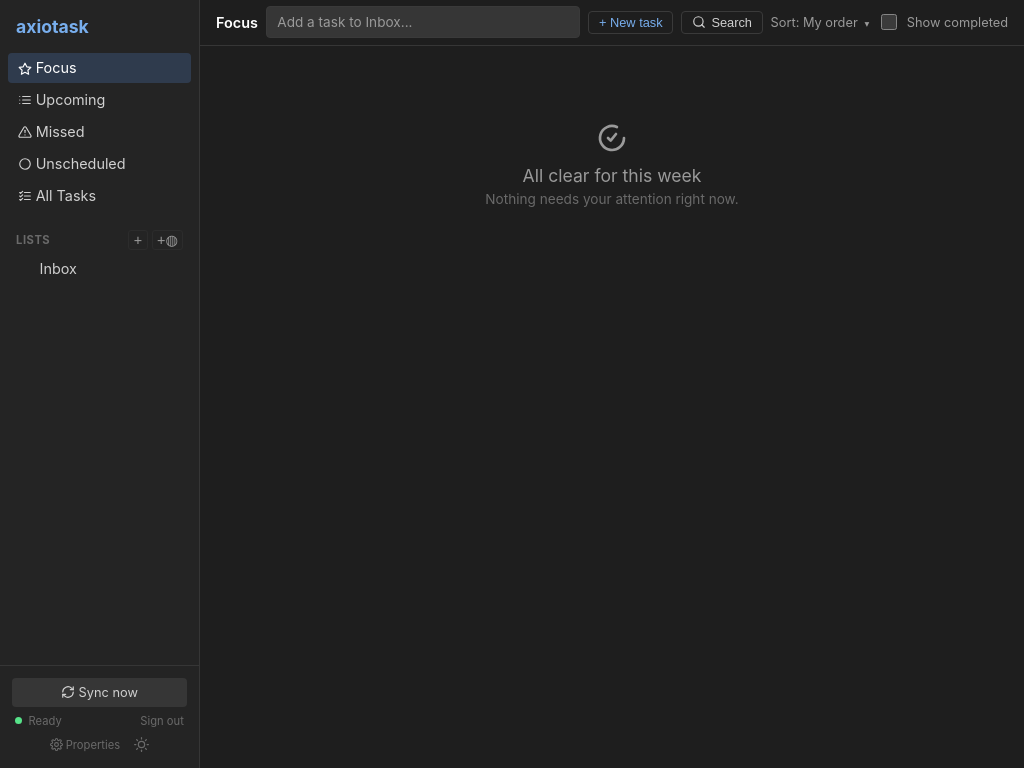
GH#3: Sync Pull › reloads tasks after sync completes
// Navigate to Inbox
Click the button "Inbox".
click(110, 269)  # box left=30, top=254, right=191, bottom=284
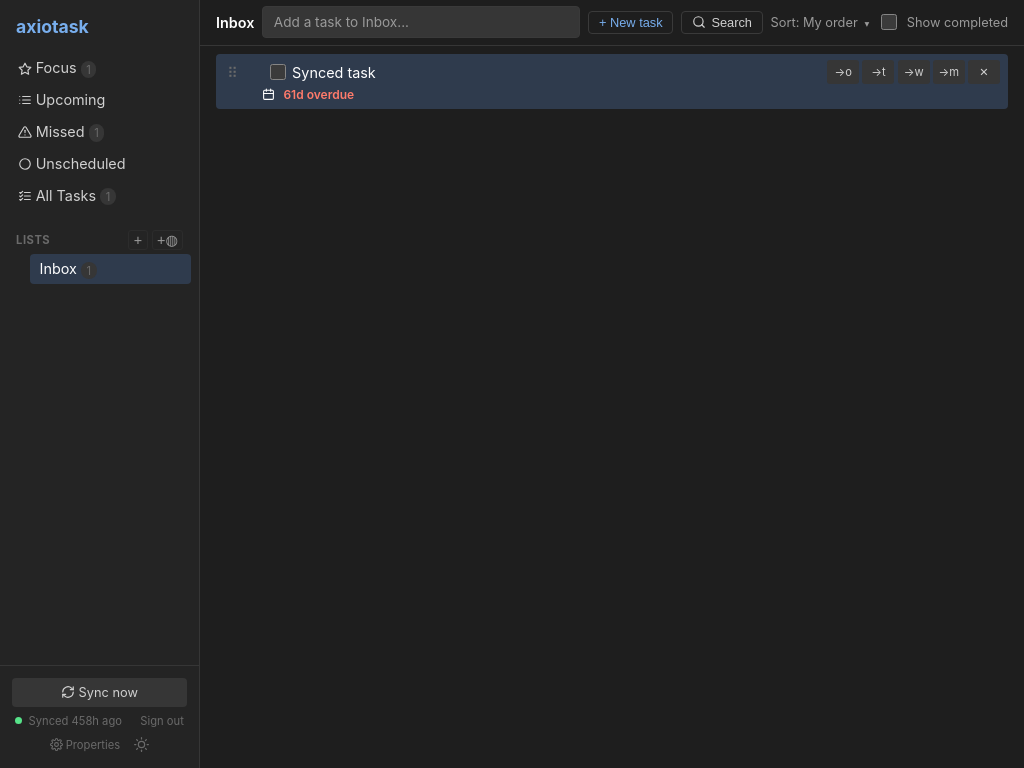
Now the text "Synced task" is shown, box left=292, top=64, right=376, bottom=81
